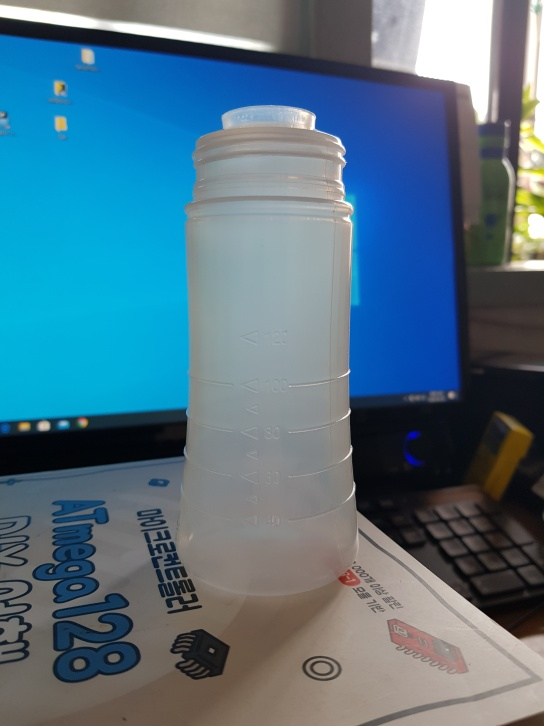Plastic: (174, 100, 363, 596)
